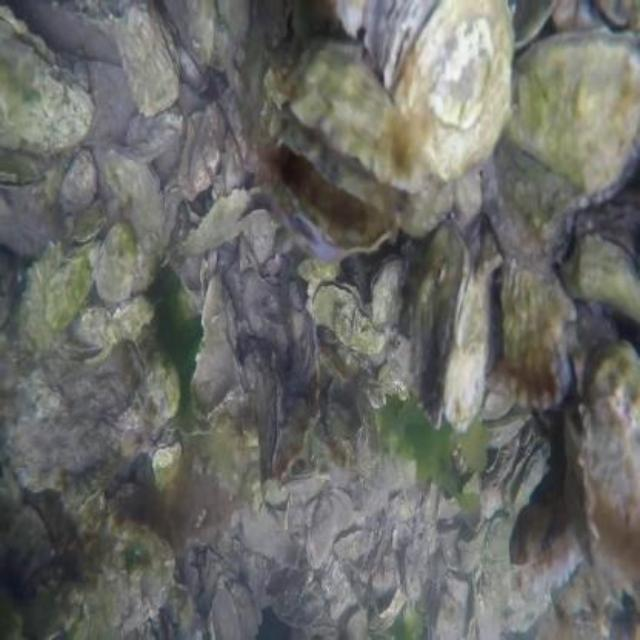Oyster-Closed: (506, 28, 640, 199), (581, 344, 640, 617), (0, 4, 94, 154), (410, 221, 470, 425), (503, 259, 577, 406), (105, 0, 183, 117), (560, 230, 640, 321), (445, 276, 489, 432), (311, 280, 387, 354), (22, 244, 70, 357), (108, 143, 169, 230), (44, 242, 101, 331), (503, 437, 552, 513), (254, 371, 283, 492), (97, 220, 136, 305), (164, 0, 215, 61), (191, 105, 226, 190), (128, 109, 182, 161), (59, 150, 99, 214), (512, 503, 552, 566), (371, 255, 403, 328), (241, 209, 276, 265), (180, 111, 201, 203), (0, 150, 48, 190), (70, 199, 107, 249), (315, 497, 346, 554), (115, 297, 155, 335), (479, 217, 501, 277), (155, 444, 181, 489), (219, 0, 250, 37), (404, 543, 423, 602), (299, 262, 339, 281)
Oyster-Open: (259, 40, 416, 259), (328, 0, 512, 178), (67, 341, 110, 368)
